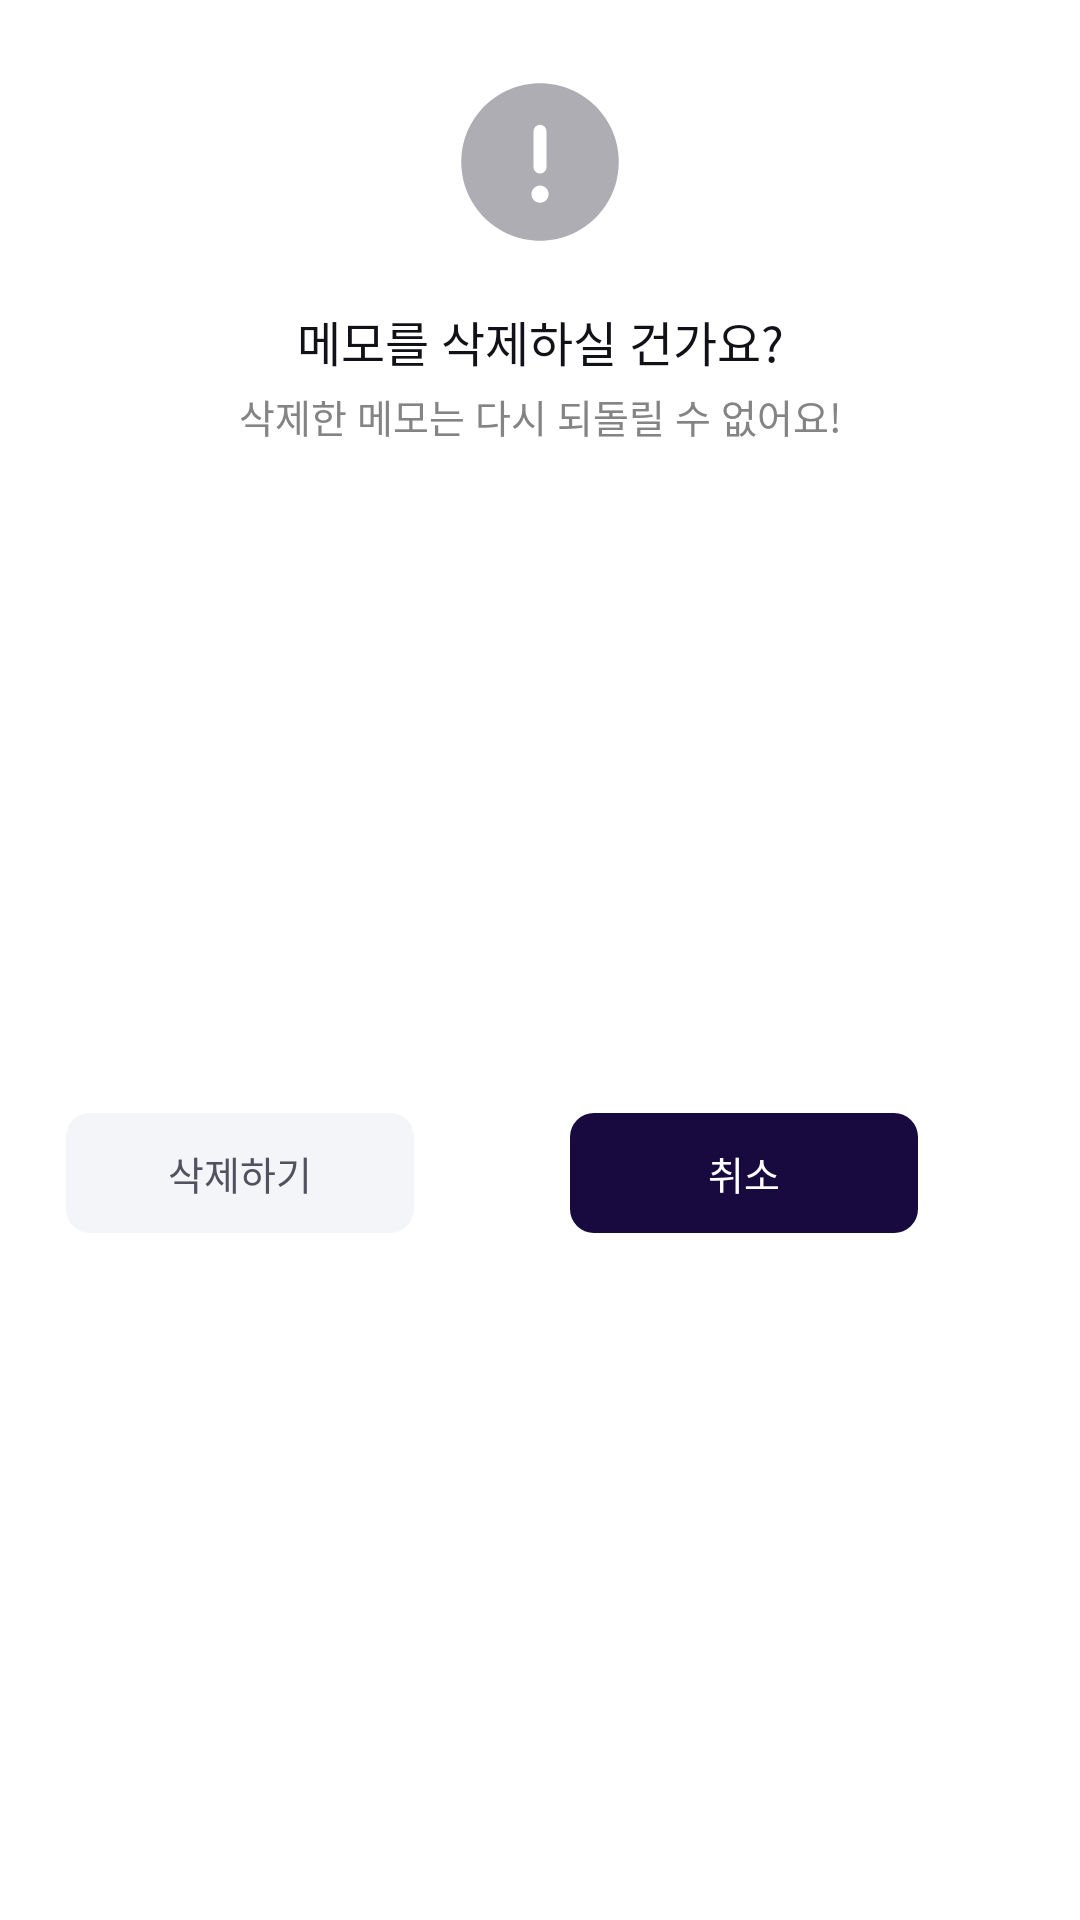

Screen size 1080 x 1920. Icon name, then its center in pixels as point (x, y):
warning circle: point (540, 162)
